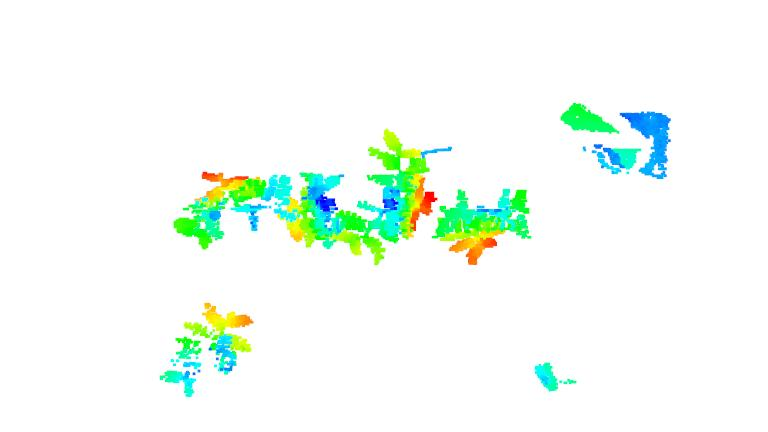chickpea: (339, 124, 436, 265), (159, 303, 256, 401), (431, 186, 532, 268), (171, 170, 267, 251), (266, 169, 347, 251)
